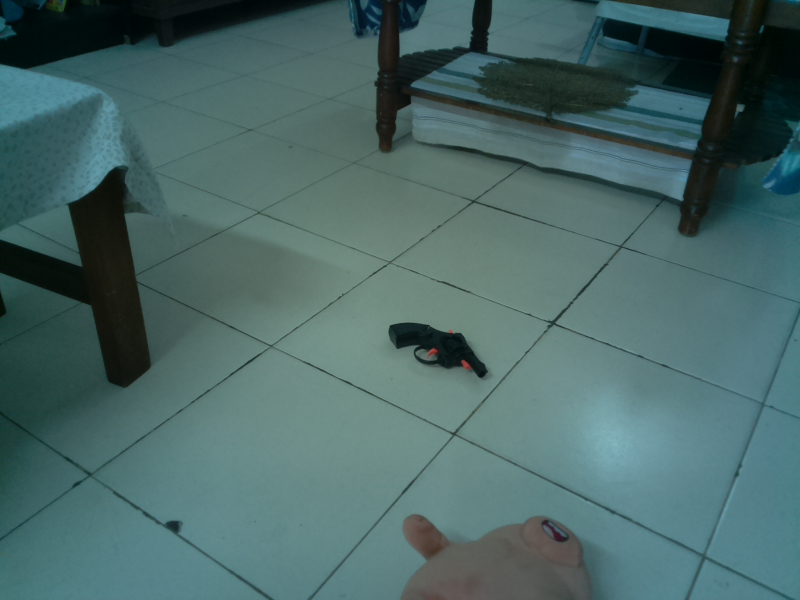Gun: (385, 316, 492, 381)
